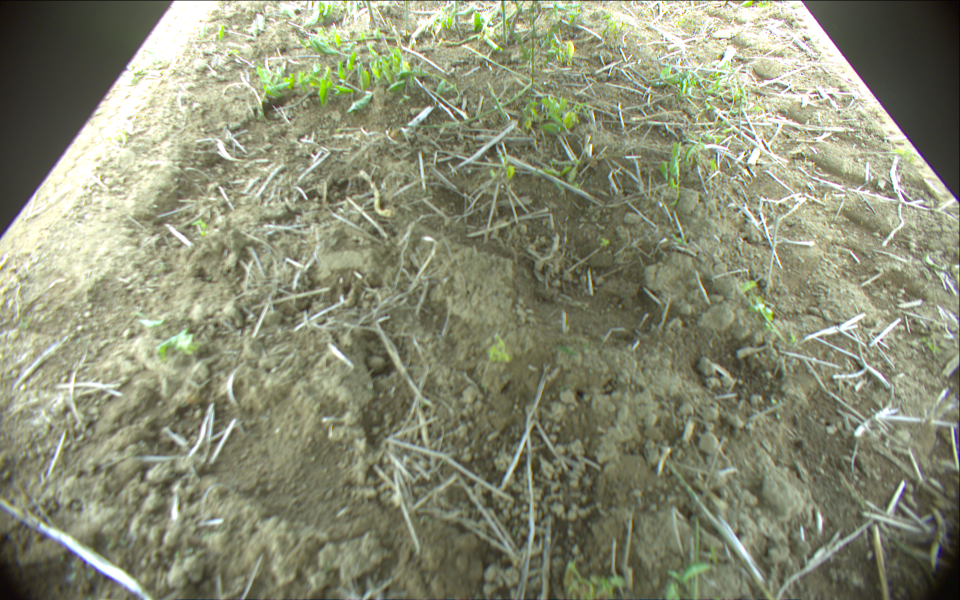aspa: (426, 81, 530, 130), (292, 33, 404, 52), (436, 33, 500, 51), (486, 84, 506, 119), (528, 1, 535, 89), (501, 1, 507, 45), (366, 1, 376, 26)
